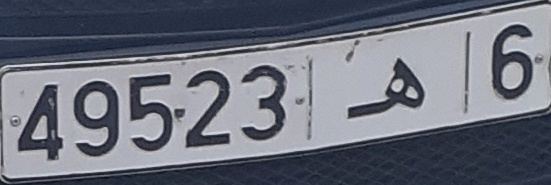2: (185, 69, 232, 150)
3: (239, 62, 288, 144)
4: (15, 82, 68, 164)
5: (128, 73, 176, 153)
6: (488, 24, 535, 101)
9: (73, 79, 123, 158)
h: (342, 56, 426, 121)
